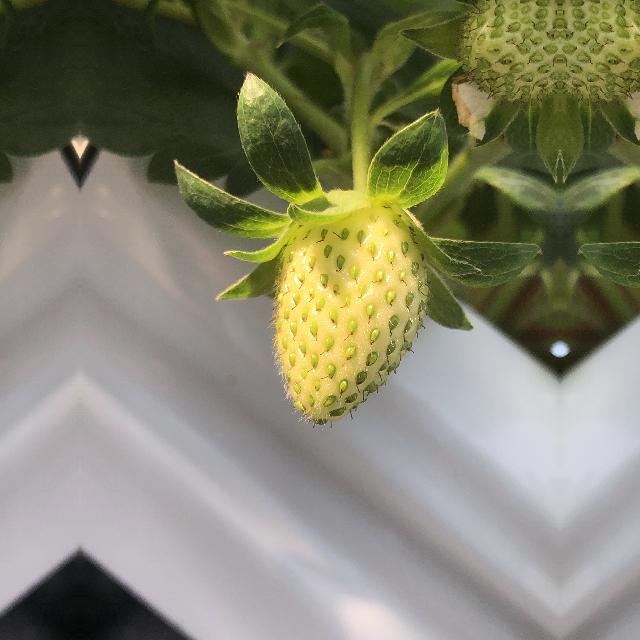Health_25: (268, 198, 432, 426), (462, 0, 559, 106), (560, 0, 640, 106)
